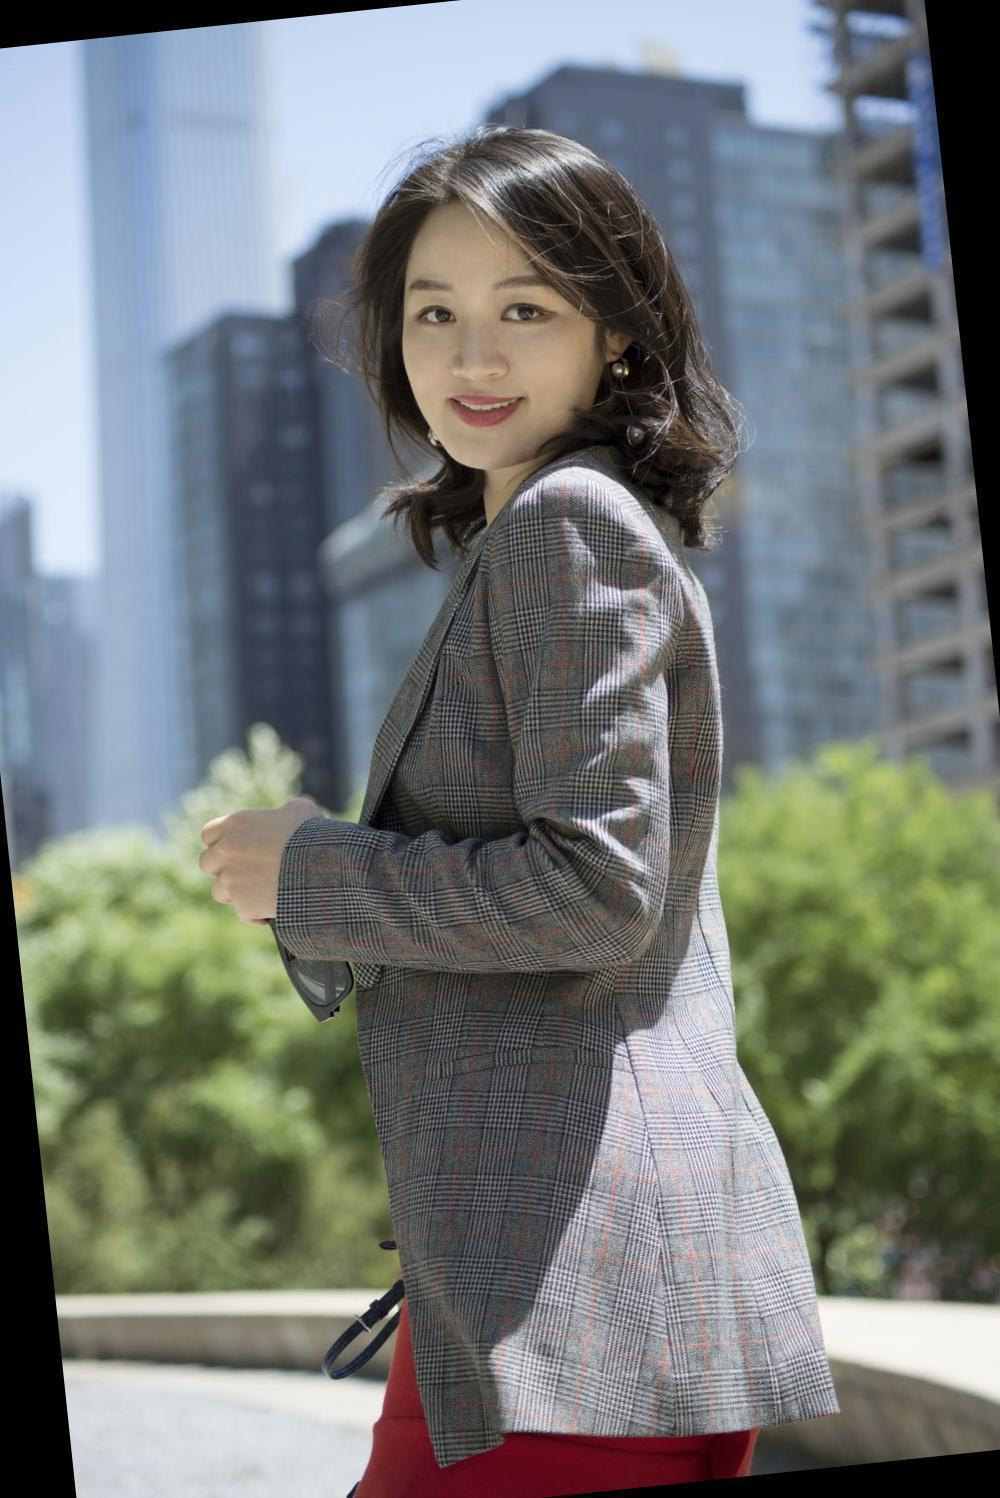Sober: (408, 201, 592, 454)
